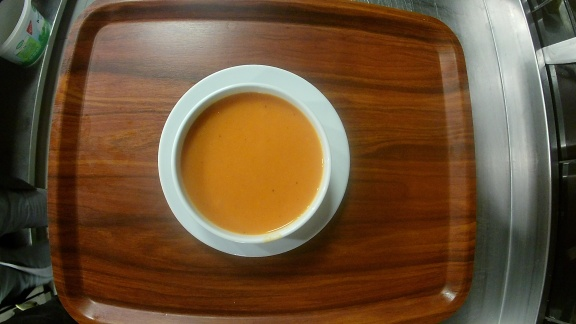domatescorba: (157, 64, 351, 260)
